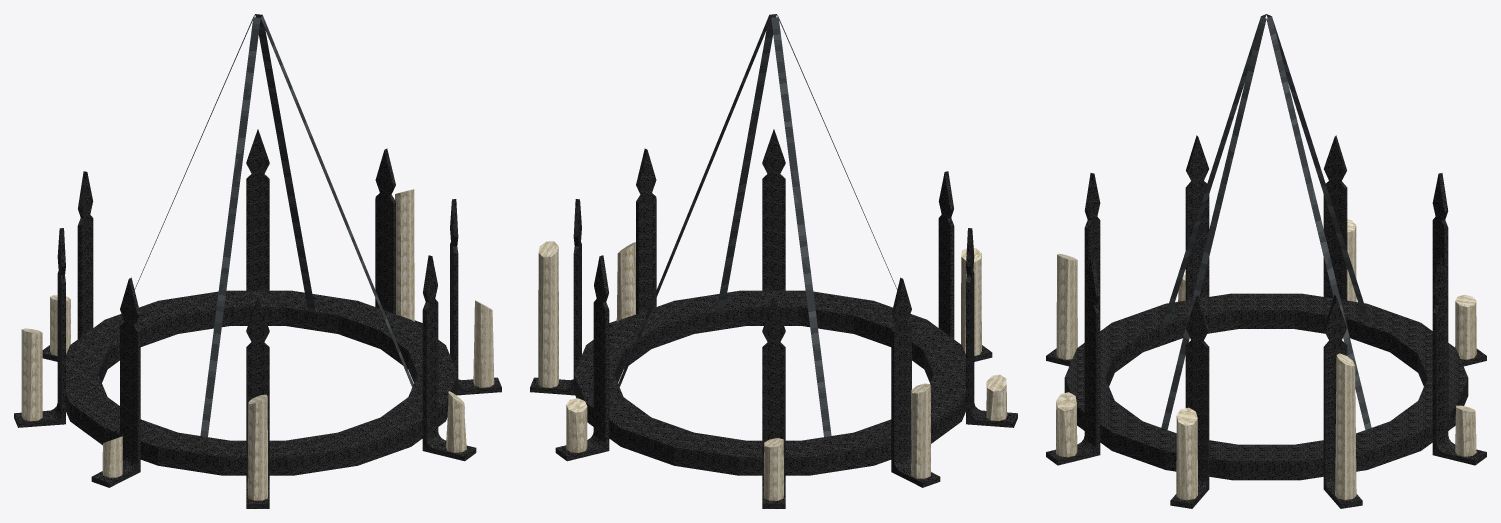
The model's file is chandelier.obj.
3 views of the same model, side by side, from view 1: azimuth 30°, elevation 25°; view 2: azimuth 150°, elevation 25°; view 3: azimuth 270°, elevation 25° (orthographic).
Visible parts, largest first — view 1: Circle, Circle.001_Circle.003, Circle.002_Circle.001; view 2: Circle, Circle.001_Circle.003, Circle.002_Circle.001; view 3: Circle, Circle.001_Circle.003, Circle.002_Circle.001.
Part boxes in pixels (left/top/right/bottom): Circle: left=14, top=14, right=501, bottom=508; Circle.001_Circle.003: left=21, top=189, right=494, bottom=500; Circle.002_Circle.001: left=107, top=14, right=413, bottom=436; Circle: left=530, top=14, right=1017, bottom=508; Circle.001_Circle.003: left=538, top=241, right=1007, bottom=500; Circle.002_Circle.001: left=618, top=14, right=924, bottom=436; Circle: left=1046, top=14, right=1486, bottom=508; Circle.001_Circle.003: left=1056, top=219, right=1476, bottom=500; Circle.002_Circle.001: left=1161, top=14, right=1371, bottom=429.
Size of the model in its own units: 11.45 by 10.48 by 10.66.
